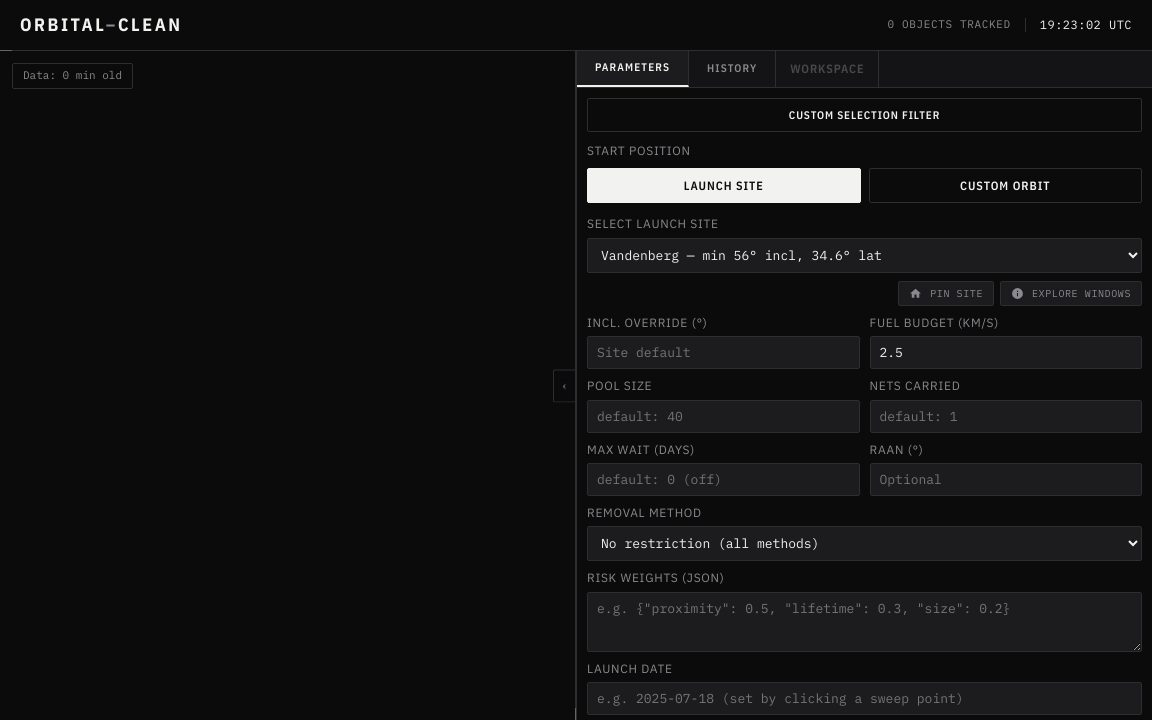
Scenario: c) Other form fields are unchanged after applying preset weights › fuel budget, pool size stay at their values after preset click
Type "20" into the number field with placeholder "default: 40" at (723, 416), box [587, 400, 860, 433]
(page scrolled)
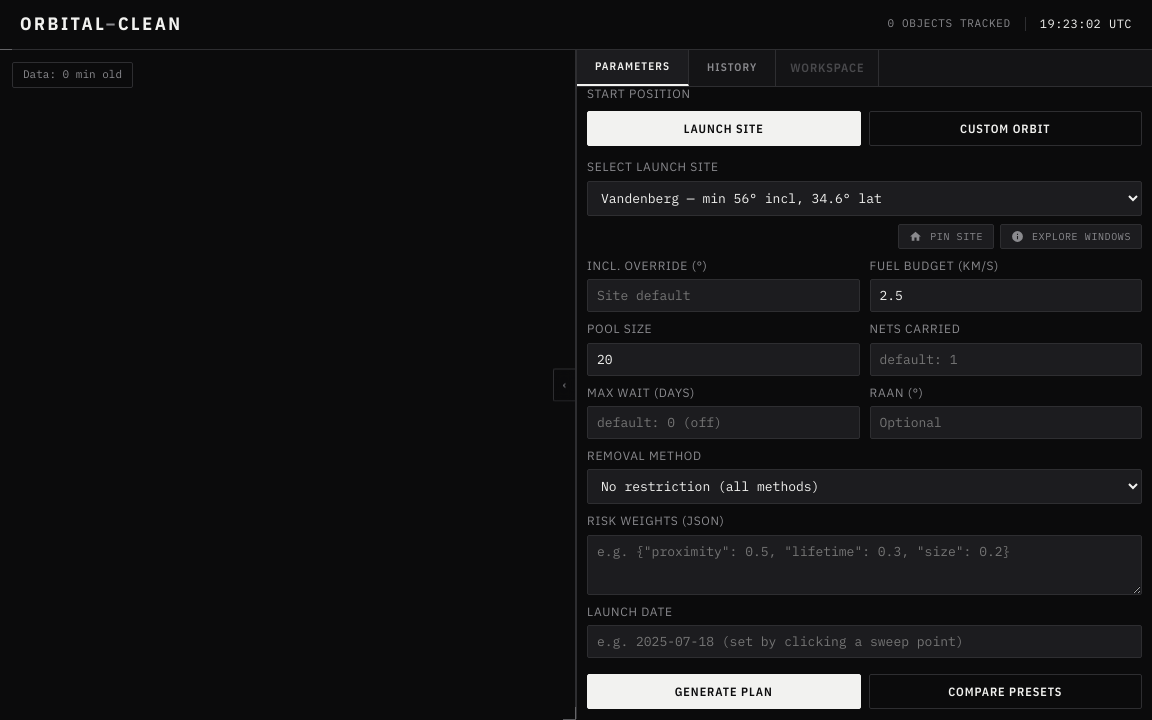
Click the button "Compare Presets" at (1005, 692), box [868, 674, 1142, 709]
(page scrolled)
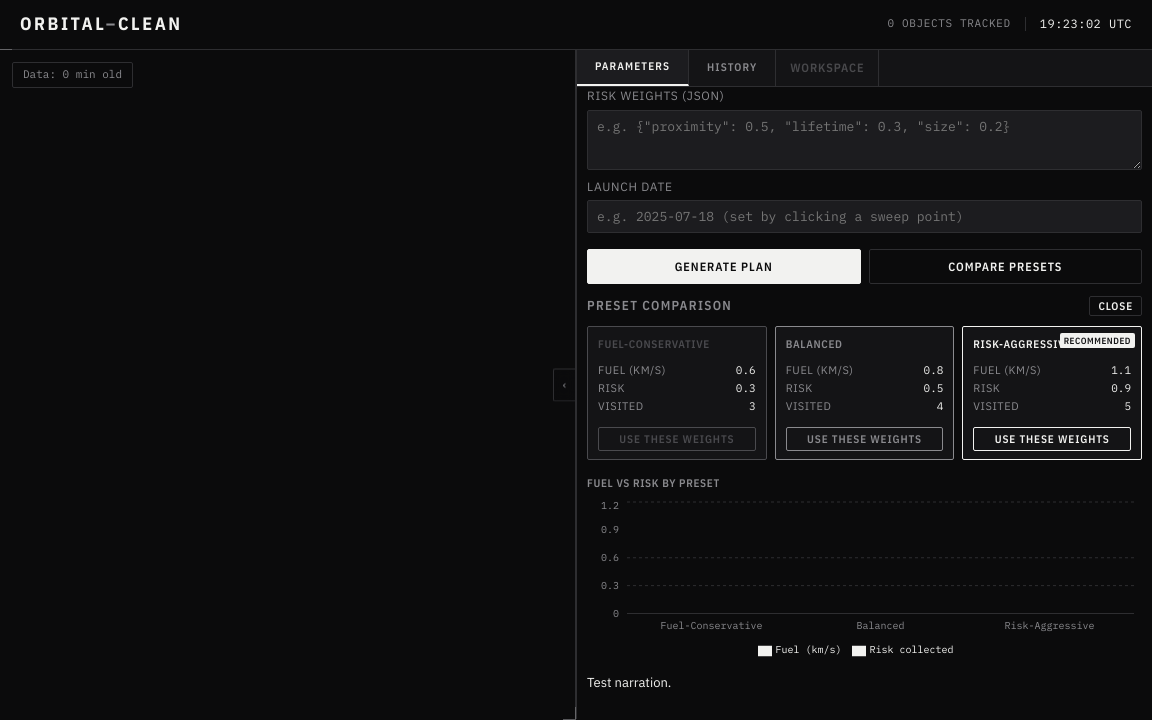
Click the 1st button "Use these weights" at (677, 439), box [598, 427, 756, 451]
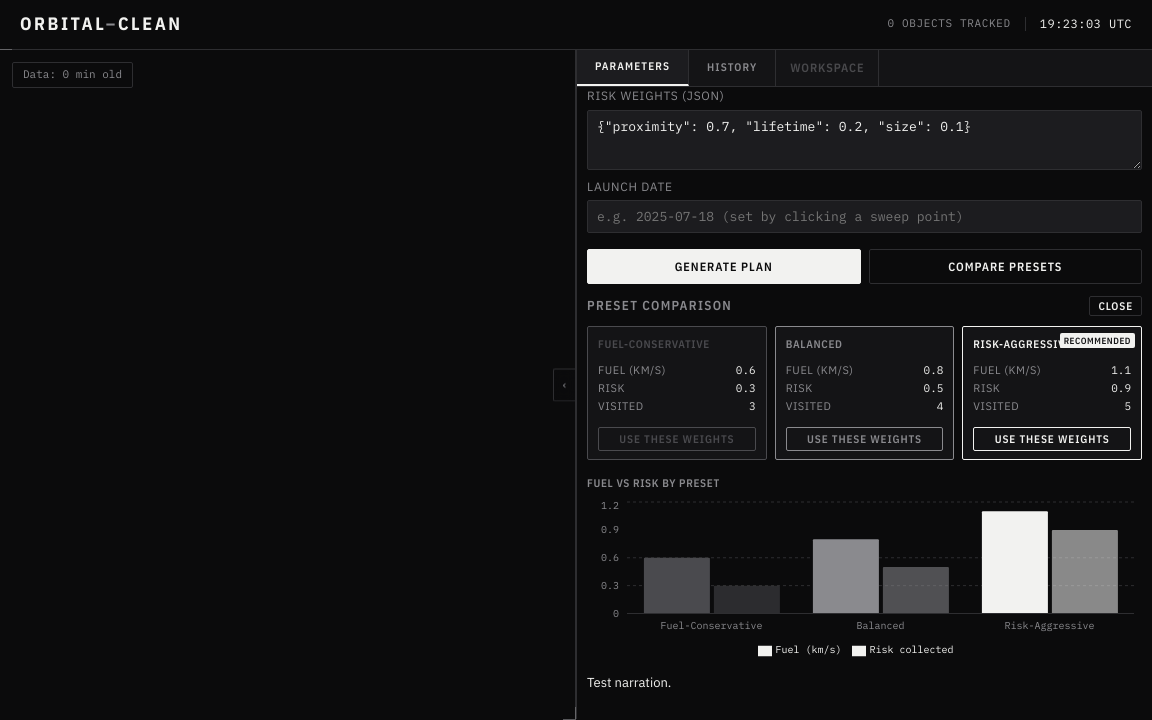
Expected: the text box with placeholder "e.g. {\"proximity\": 0.5, \"lifetime\": 0.3, \"size\": 0.2}" is not empty, [587, 110, 1142, 170]
